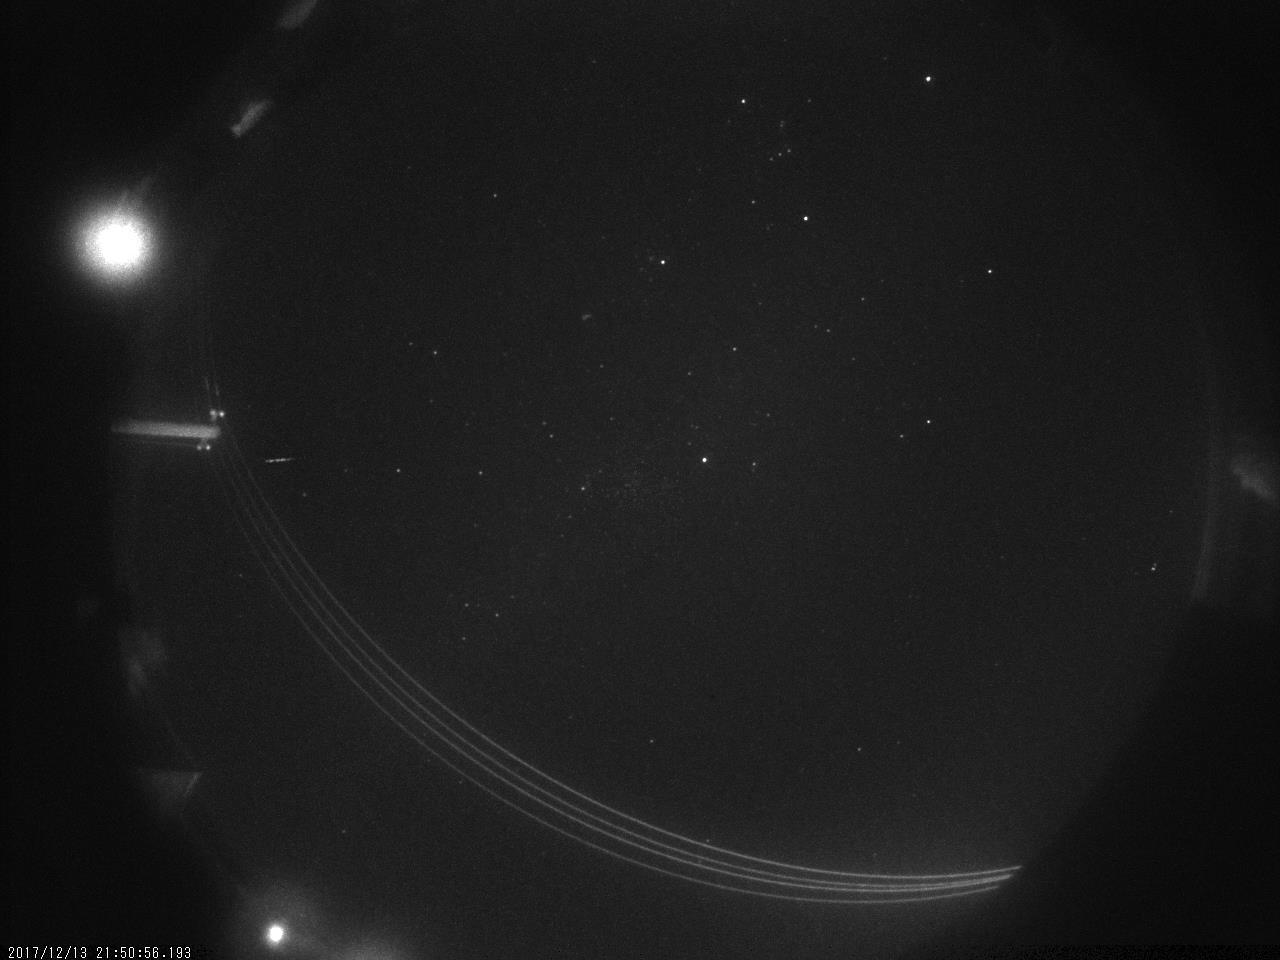Meteor: (261, 451, 298, 469)
